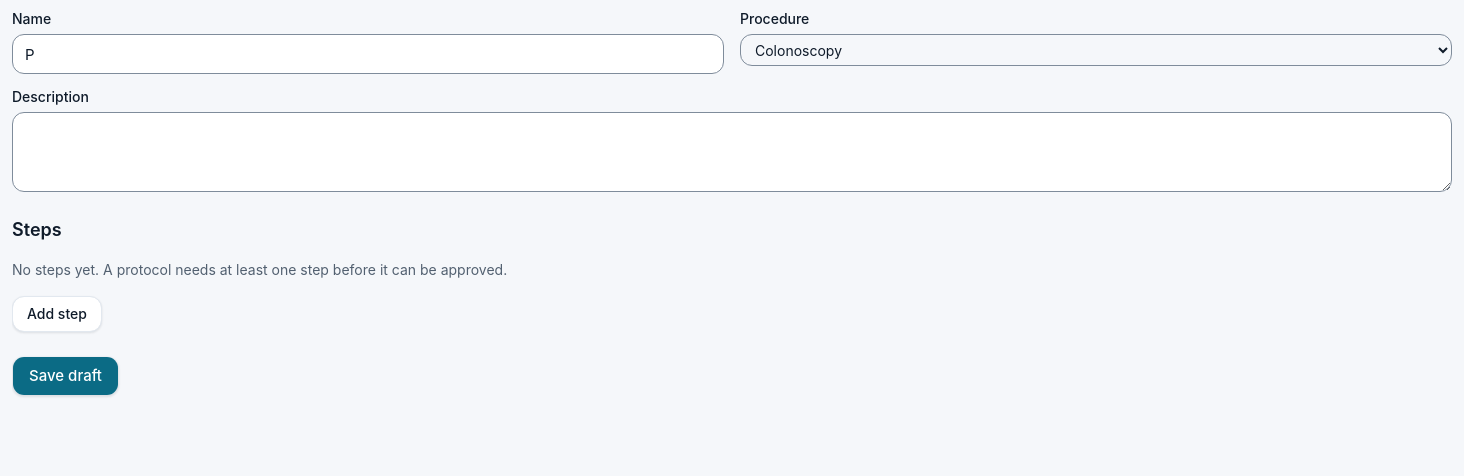
ProtocolEditor › shows errors returned by the server
Click the button "Save draft": (65, 376) [12,356,119,396]
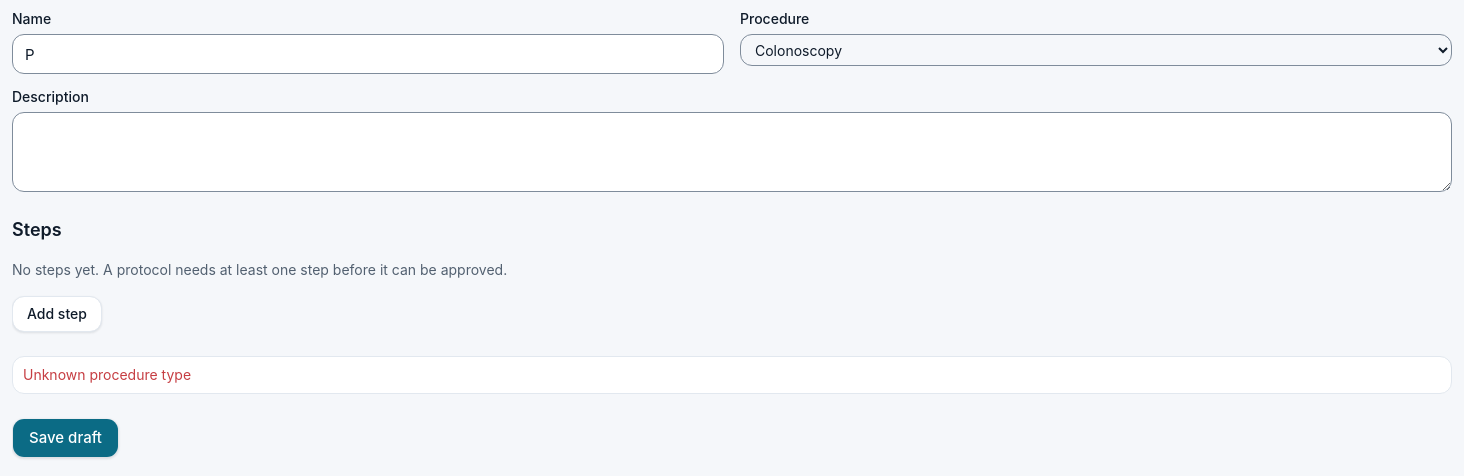
Now the message reads "Unknown procedure type", box [23,366,191,383]
